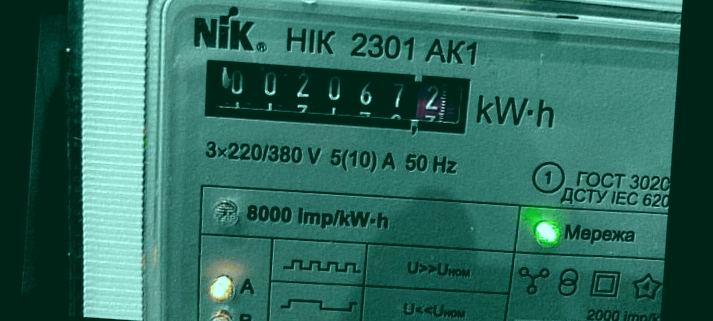0: (227, 67, 247, 97), (324, 72, 344, 101), (261, 67, 280, 97)
2: (422, 82, 442, 112), (294, 70, 313, 100)
6: (356, 77, 376, 107)
7: (389, 79, 407, 110)
screen: (188, 46, 485, 148)
